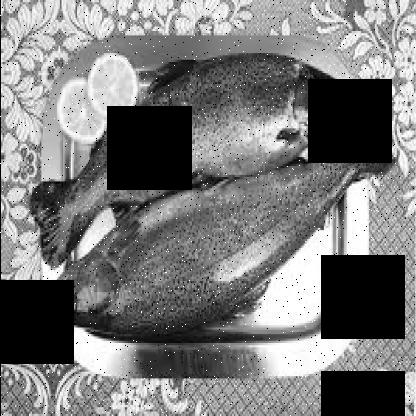fish: (52, 108, 398, 322), (30, 51, 347, 260)
